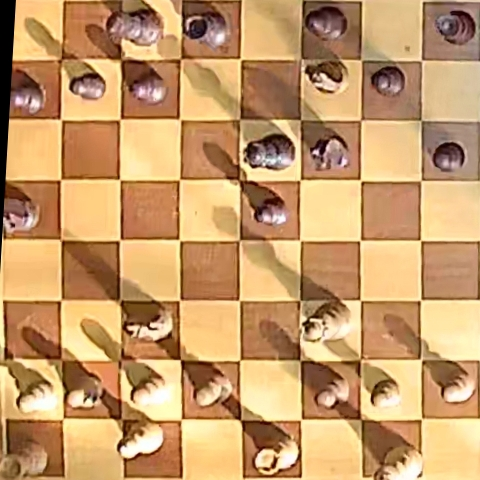black-bishop: (305, 6, 347, 40)
black-king: (106, 8, 162, 47)
black-knight: (309, 136, 349, 170), (4, 197, 40, 234)
black-pawn: (128, 70, 168, 104), (12, 83, 46, 115), (371, 66, 405, 97), (70, 73, 106, 100), (433, 142, 465, 172), (255, 198, 288, 226)
black-queen: (245, 134, 295, 170)
black-rook: (183, 9, 232, 49), (435, 10, 475, 45)
white-bishop: (118, 421, 163, 459)
white-king: (377, 445, 424, 480)
white-knight: (123, 303, 174, 343), (305, 61, 348, 95)
white-pawn: (17, 381, 58, 414), (194, 372, 232, 407), (315, 374, 350, 409), (130, 375, 168, 407), (442, 370, 476, 404), (66, 382, 103, 410), (371, 379, 401, 409)
white-queen: (303, 300, 351, 342)
white-rook: (252, 430, 298, 475), (2, 440, 49, 477)
